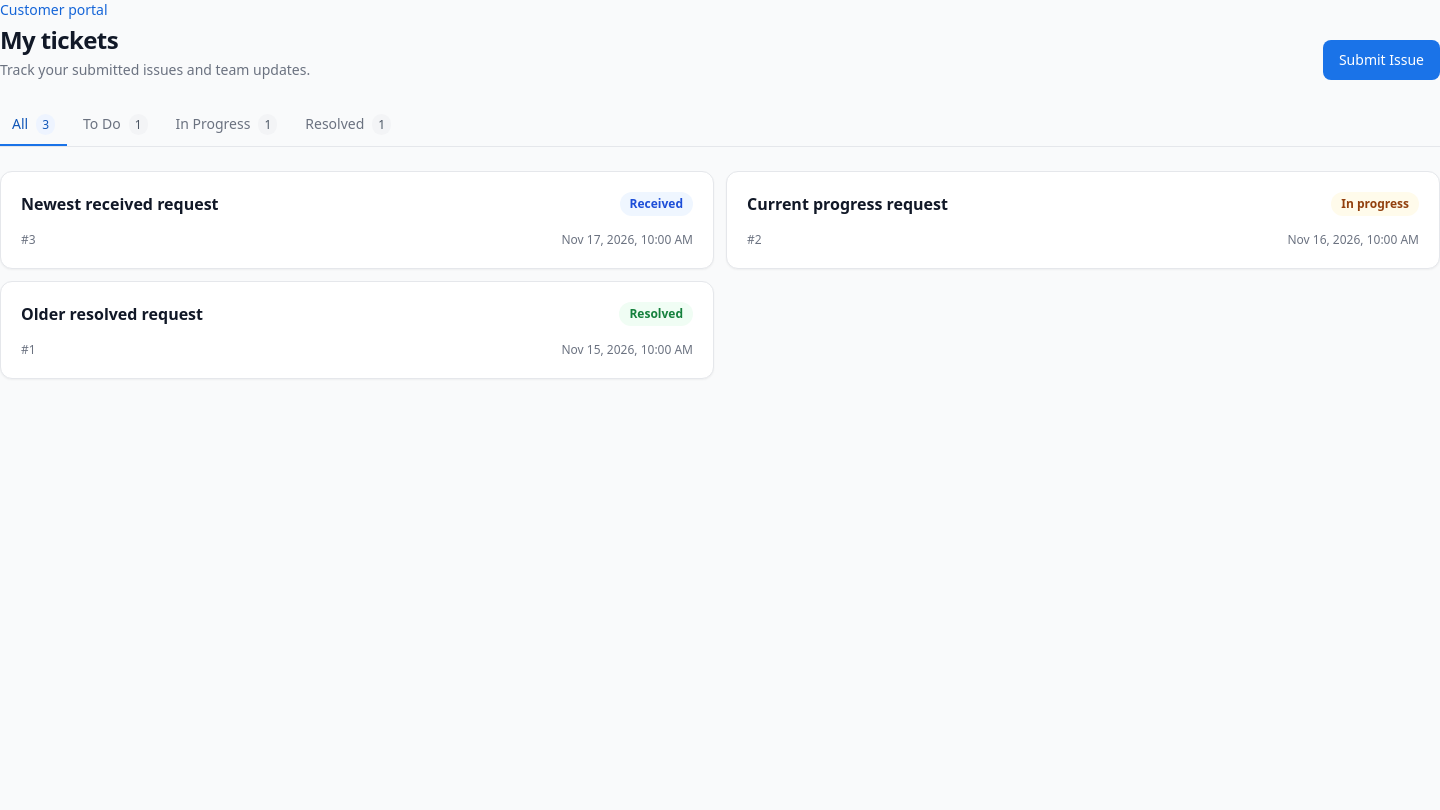
Test: MyTicketsPage › shows the friendly no-replies state
Click the button with aria-label "Open ticket Newest received request".
click(120, 204)  # box [0,171,714,269]
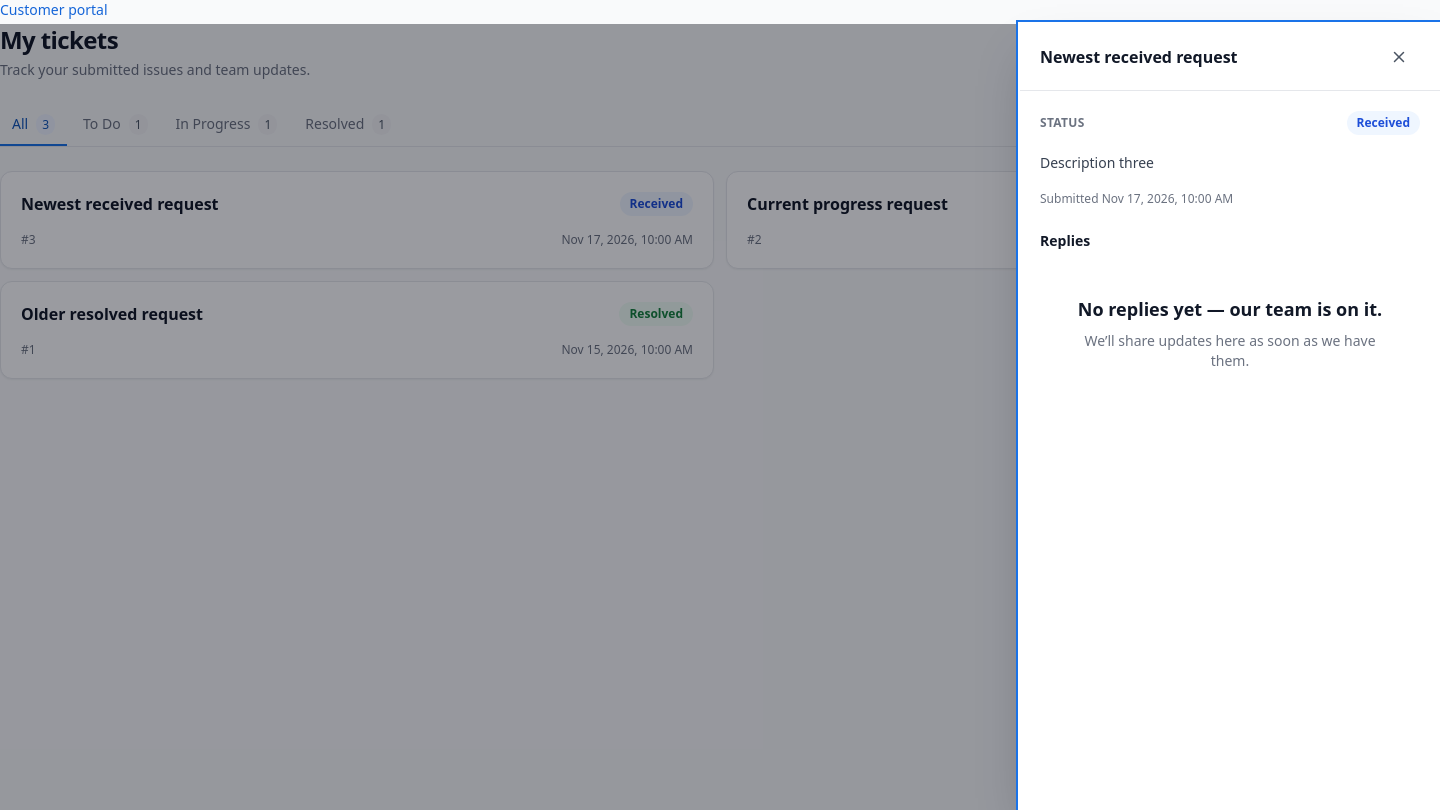
Expected: the heading "No replies yet — our team is on it." is shown, [1078,295,1382,323]
